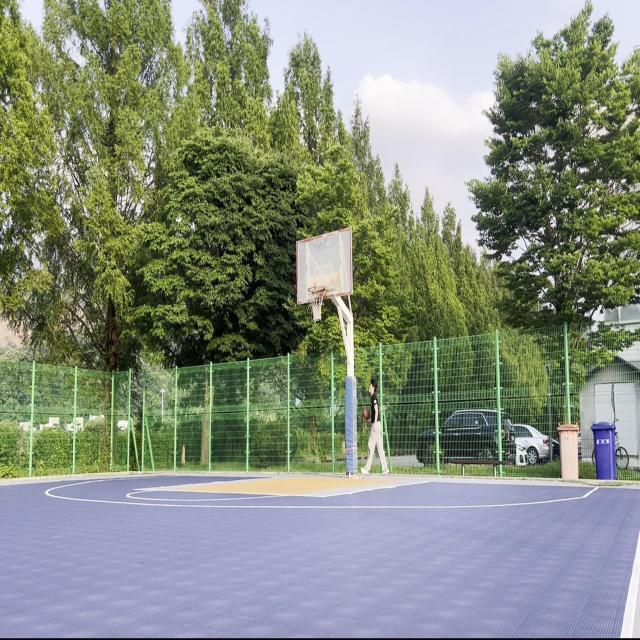basketball: (362, 407, 370, 420)
hoop: (307, 286, 326, 323)
